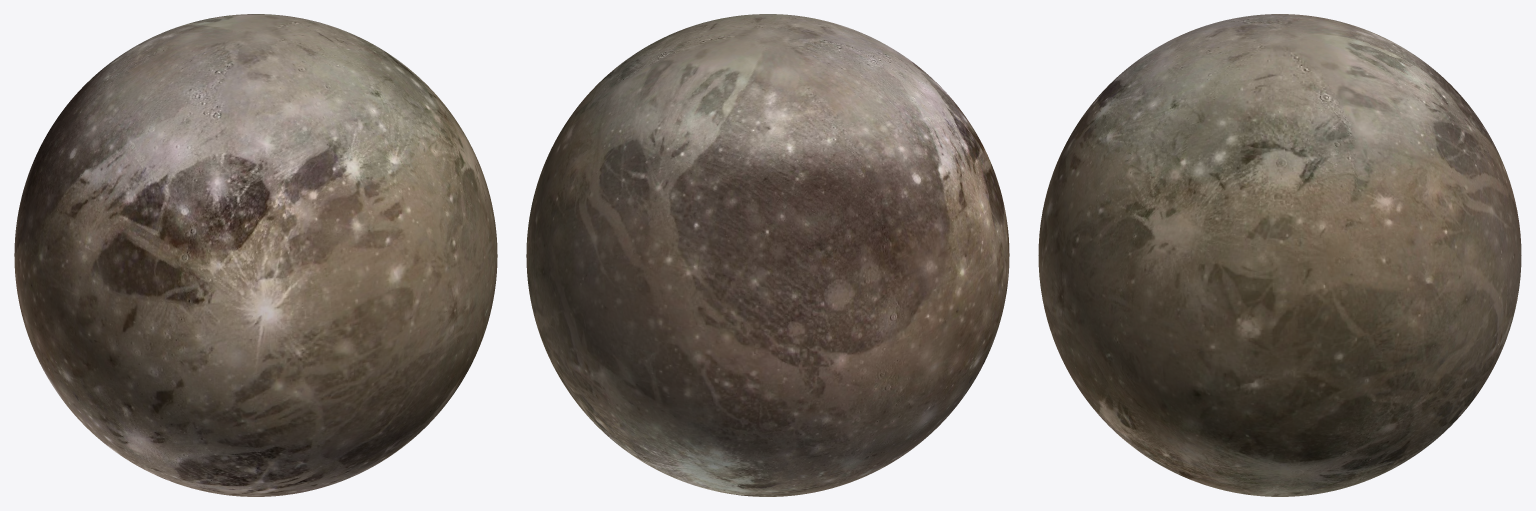
File: ganymede.glb
3 views of the same model, side by side, from view 1: azimuth 30°, elevation 25°; view 2: azimuth 150°, elevation 25°; view 3: azimuth 270°, elevation 25° (orthographic).
Parts seen in each view (by area): view 1: ganymede_globe; view 2: ganymede_globe; view 3: ganymede_globe.
Part boxes in pixels (x1,y1,x2,y2): ganymede_globe: [14, 14, 497, 496]; ganymede_globe: [526, 14, 1009, 496]; ganymede_globe: [1038, 14, 1521, 496].
Size of the model in its own units: 2 by 2 by 2.
1 material, 1 textured.
